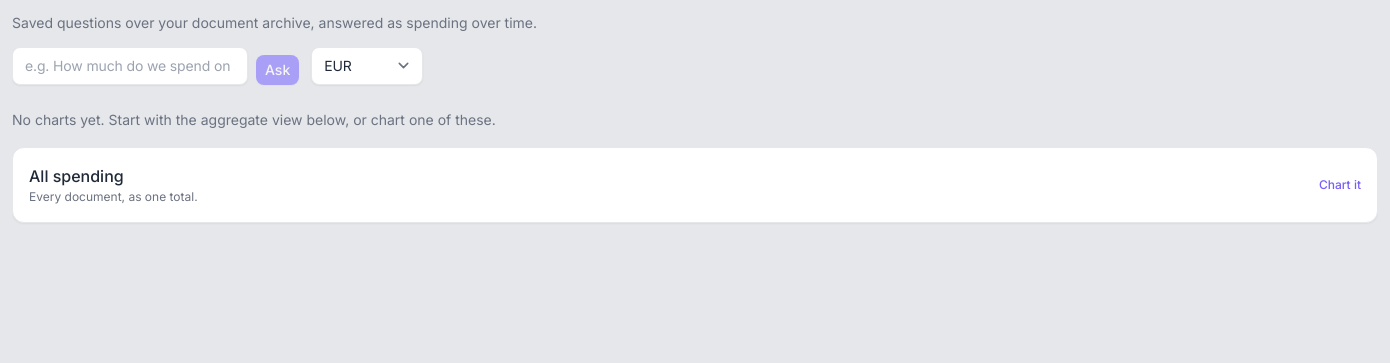
SpendingBoardView › shows the empty state when there are no charts, and the board after saving one
Check: the element with test id "spending-empty-state" is shown, box [12,109,1378,223]
Click the button with test id "spending-empty-proposal": coordinates (76, 176) [12,147,1378,223]
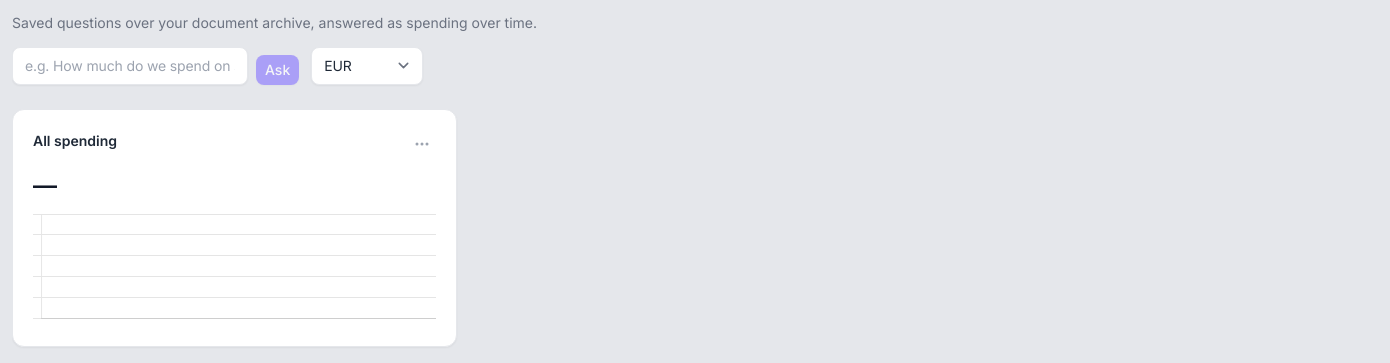
Check: the link with test id "spending-card-name" reads "All spending", box [33,132,117,149]
Check: the number of elements with test id "spending-card" is 1, box [12,109,457,347]
